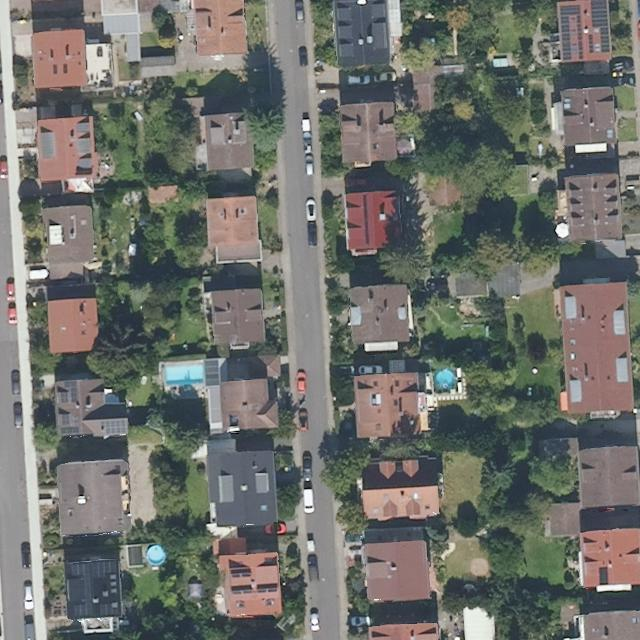PV: (67, 559, 120, 619), (559, 3, 585, 61), (590, 1, 612, 54), (99, 418, 129, 438), (57, 380, 81, 405), (56, 413, 81, 435), (230, 587, 254, 594), (255, 586, 279, 593), (230, 572, 251, 578)
